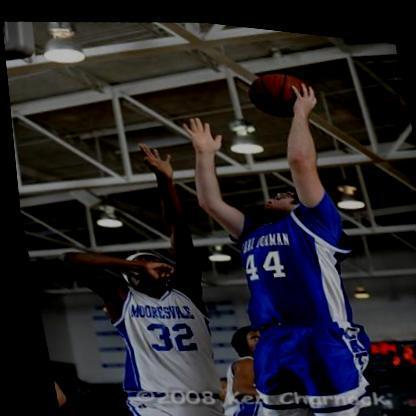basketball: (244, 59, 319, 120)
